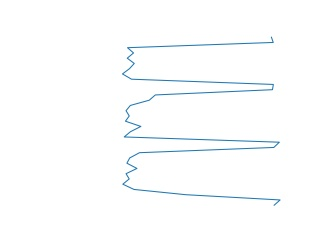majorRiverChannelBar: (119, 37, 284, 207)
